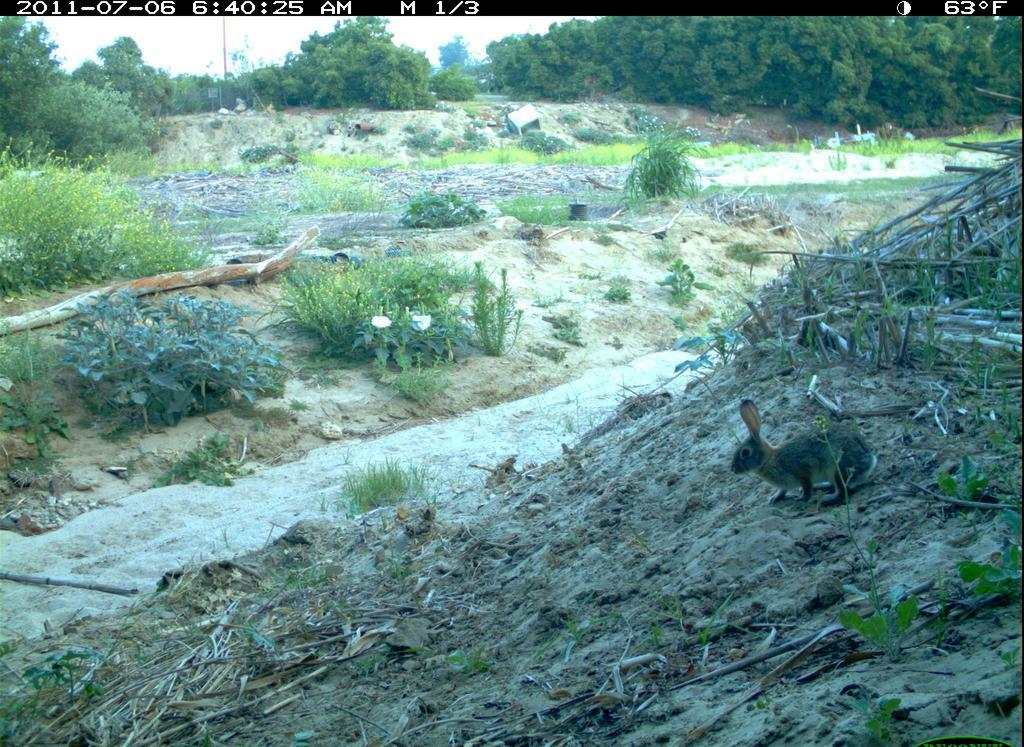rabbit: (726, 394, 881, 514)
